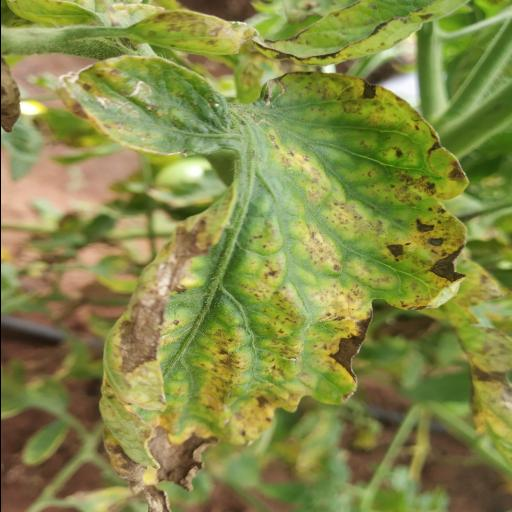disease_tomato: (73, 58, 467, 512)
